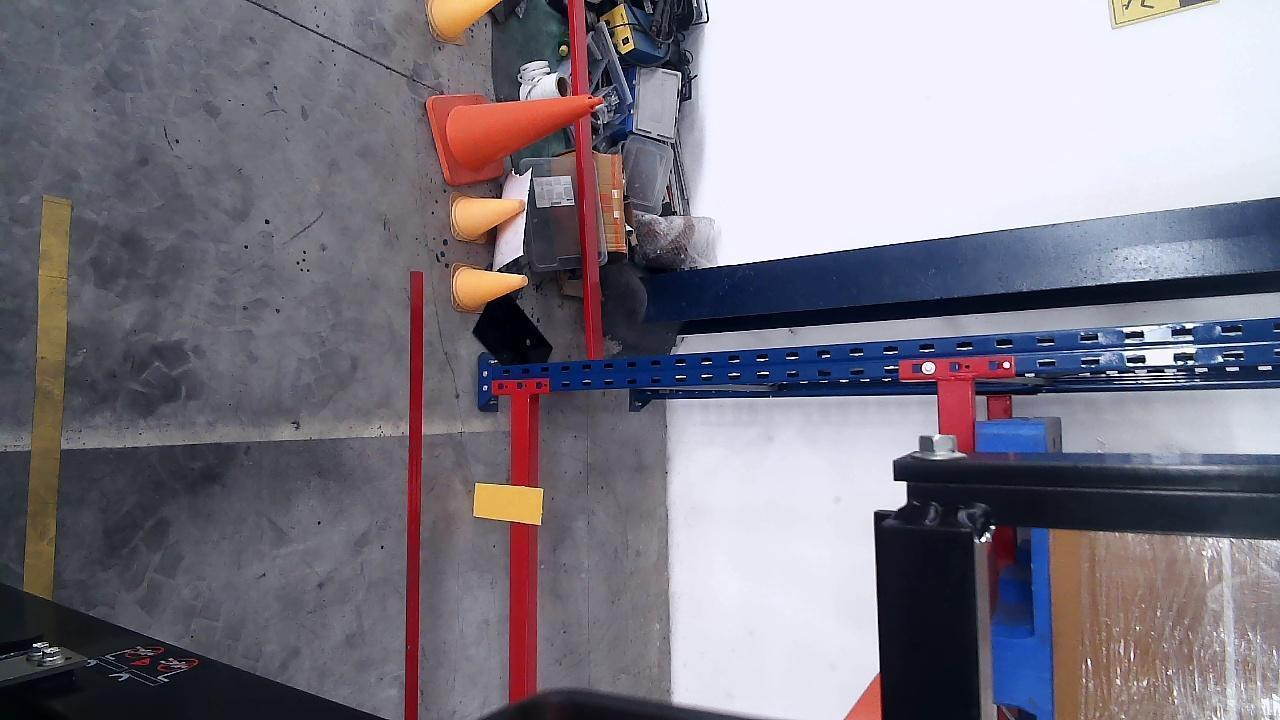red_line: (406, 271, 421, 720)
yellow_line: (26, 197, 68, 602)
